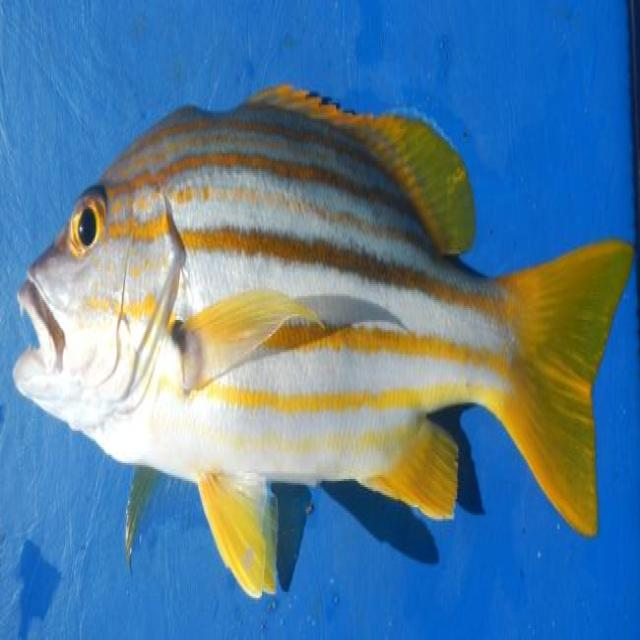ikan: (12, 78, 634, 598)
